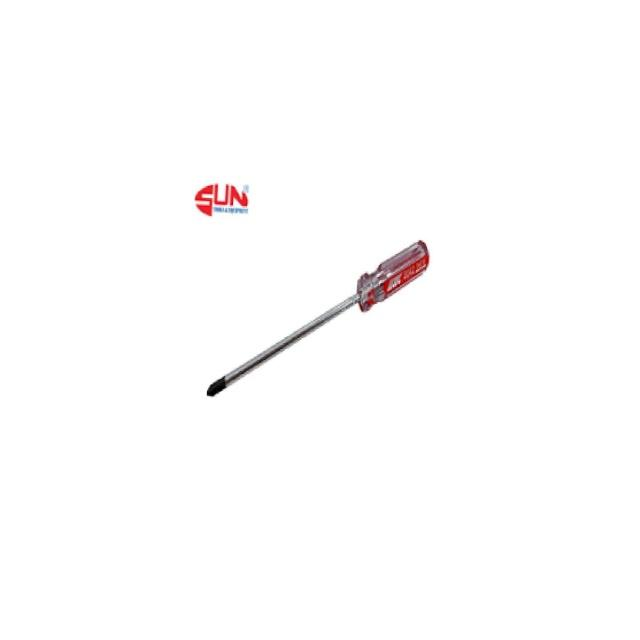screwdriver: (201, 228, 433, 408)
